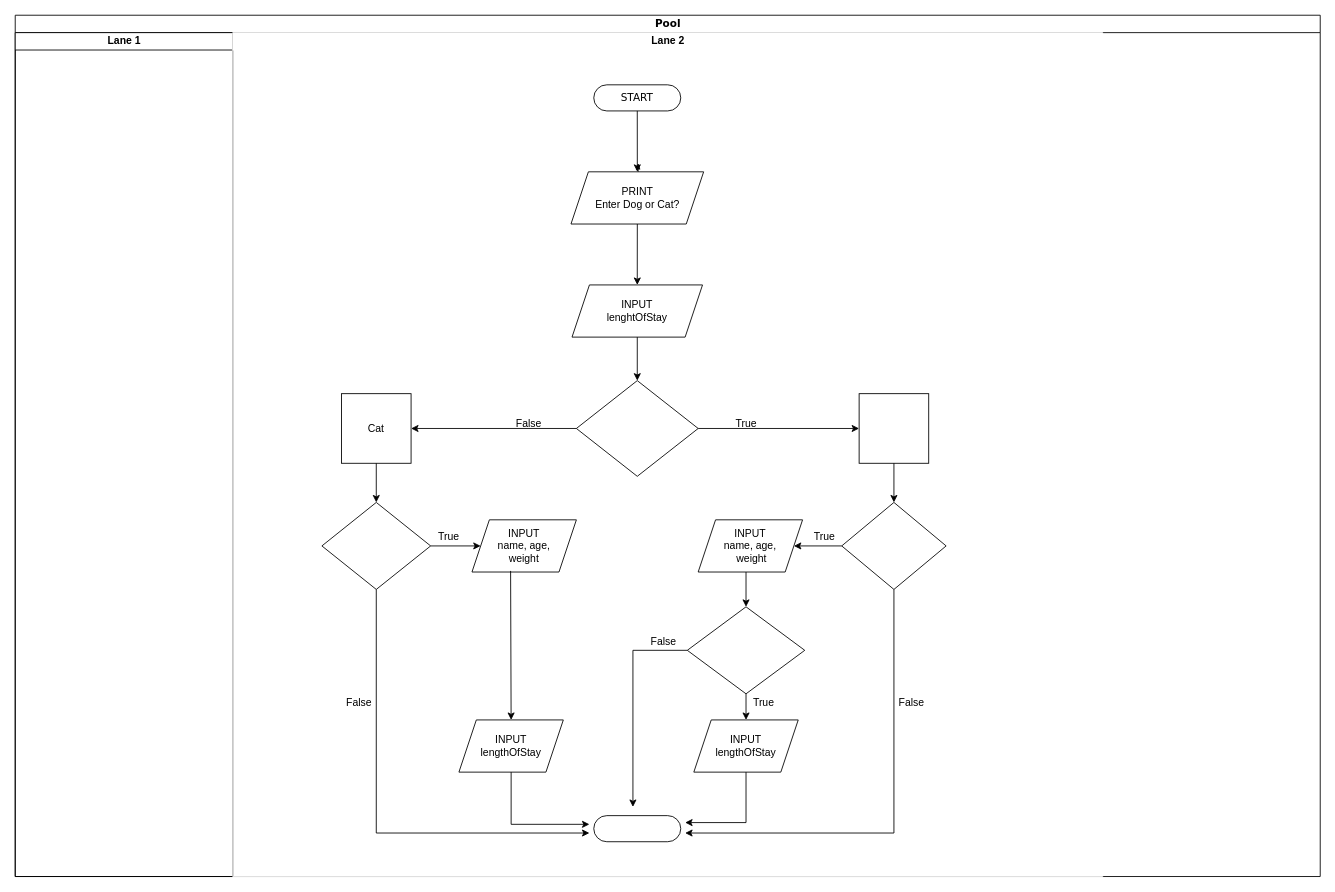
Some shapes in this 1335 by 892 pixel diagram are drawn without their labels. The shapes that lost their labels are listed below. From the top down, each one's centre as x and y in pixels, then its label:
At point 637,428: "Is petType Dog?".
At point 893,428: "Dog".
At point 376,545: "Is less than 12 spaces?".
At point 893,545: "Is less than 30 spaces?".
At point 745,650: "Is Dog grooming 2 or more days?".
At point 637,828: "END".
